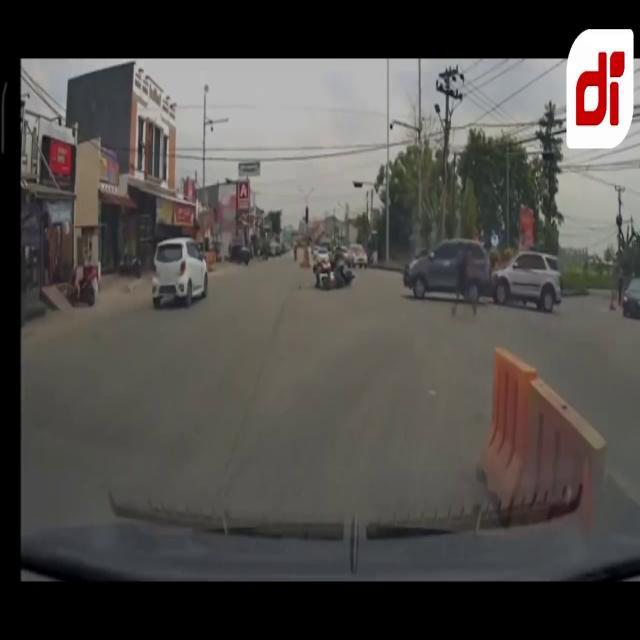multiple_accident: (372, 175, 593, 340)
normal: (133, 202, 253, 335), (285, 198, 373, 300)
